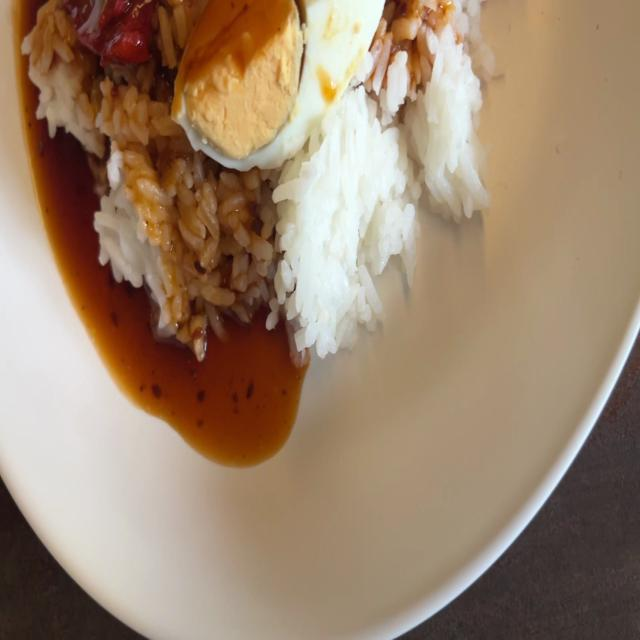red_pork_and_crispy_pork: (162, 0, 384, 152)
